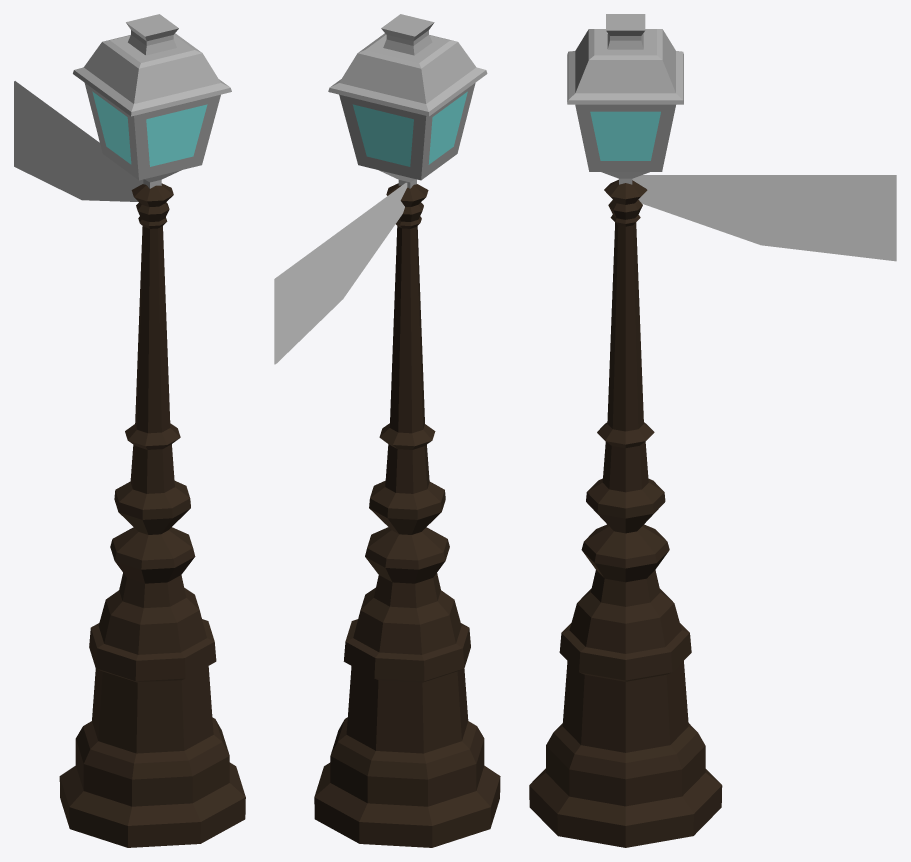
The model's file is lampadaire_SHD.fbx.
3 renders of one model, left to right at view 1: azimuth 30°, elevation 25°; view 2: azimuth 150°, elevation 25°; view 3: azimuth 270°, elevation 25°, orthographic.
Visible parts, largest first — view 1: lampadaire, props_lamp, wall_props_c; view 2: lampadaire, props_lamp, wall_props_c; view 3: lampadaire, wall_props_c, props_lamp.
Boxes of the visible parts, x1,y1,x2,y2 form: lampadaire: (59,183,245,847); props_lamp: (73,14,231,188); wall_props_c: (14,81,143,201); lampadaire: (314,183,500,847); props_lamp: (328,14,487,188); wall_props_c: (274,182,407,364); lampadaire: (529,179,722,847); wall_props_c: (632,175,896,261); props_lamp: (567,14,683,184).
Bounding box in the file's own units: 95.48 × 428 × 182.
